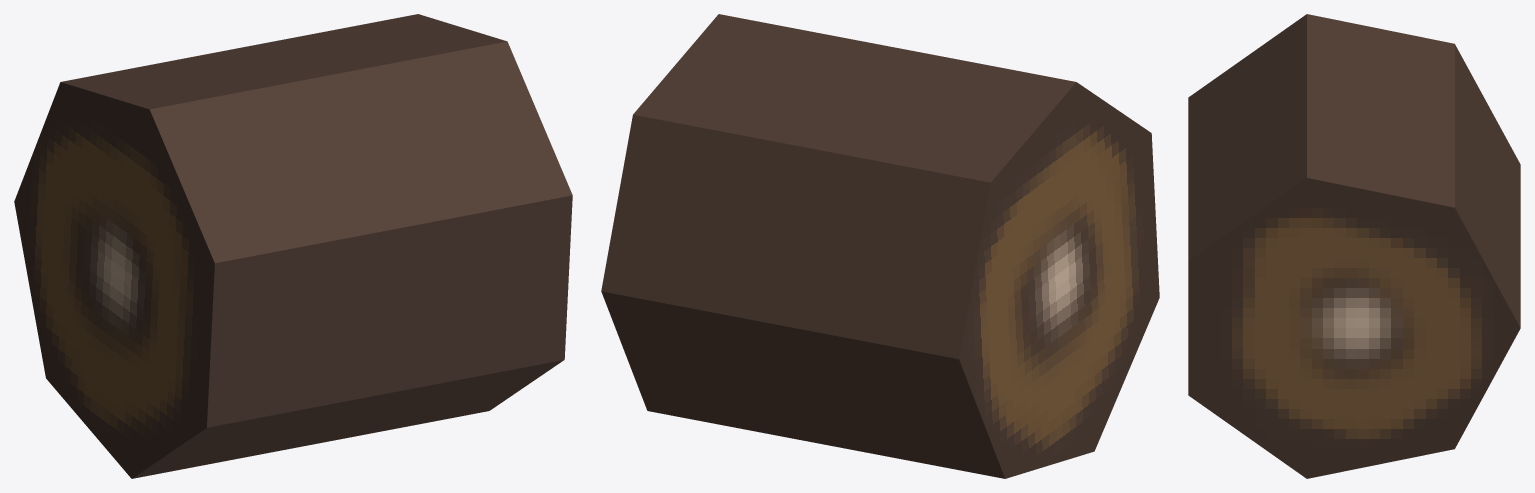
The model's file is girth_log.glb.
3 views of the same model, side by side, from view 1: azimuth 30°, elevation 25°; view 2: azimuth 150°, elevation 25°; view 3: azimuth 270°, elevation 25° (orthographic). The views are drawn at different scales.
Parts seen in each view (by area): view 1: Cylinder; view 2: Cylinder; view 3: Cylinder.
Boxes of the visible parts, left/top/right/bottom form: Cylinder: left=14, top=14, right=572, bottom=478; Cylinder: left=601, top=14, right=1159, bottom=478; Cylinder: left=1188, top=14, right=1520, bottom=478.
Bounding box in the file's own units: 2.1 × 2.05 × 1.9.
1 material, 1 textured.
